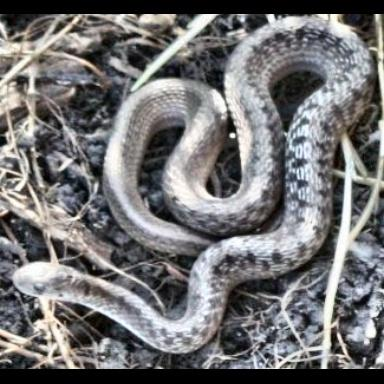snake: (14, 18, 375, 354)
